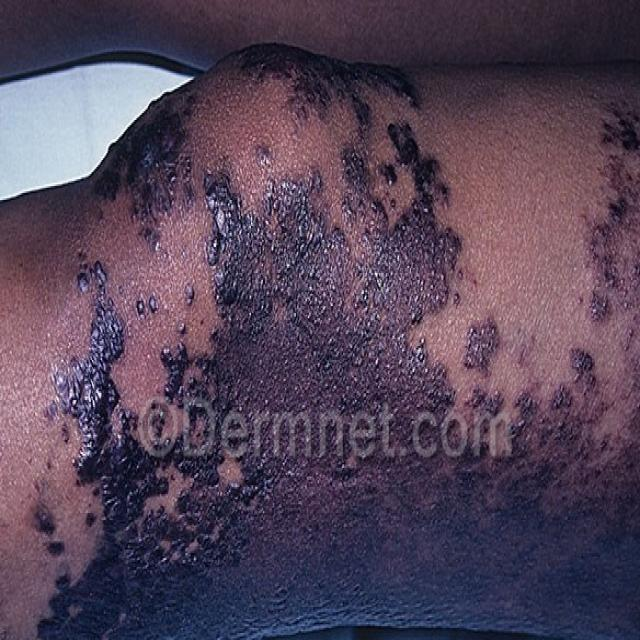Vascular Tumors: (100, 27, 582, 353), (27, 429, 639, 640), (595, 108, 640, 466)
